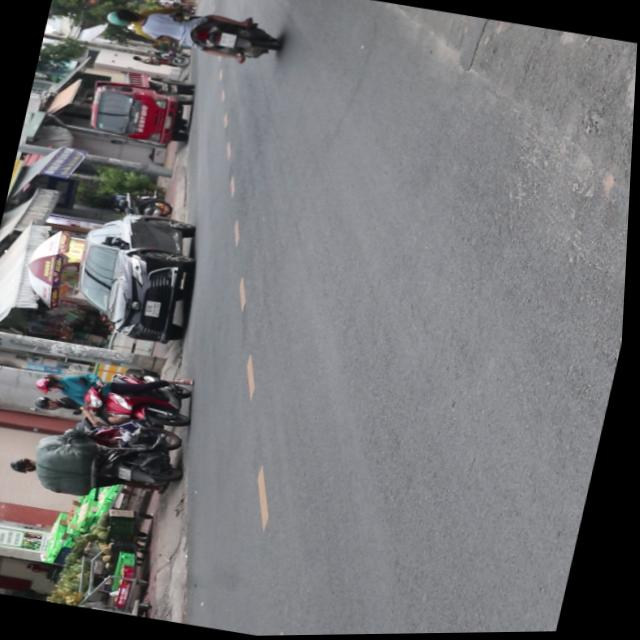helmet: (36, 374, 67, 394)
licenseplate: (30, 353, 205, 439), (98, 0, 285, 71)
motorcyclist: (114, 7, 147, 27)
nohelmet: (218, 32, 237, 48)
